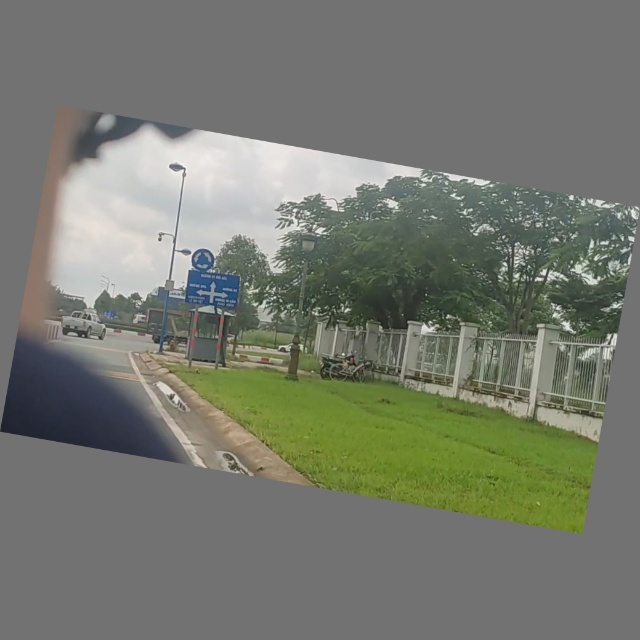R.303: (187, 246, 218, 273)
